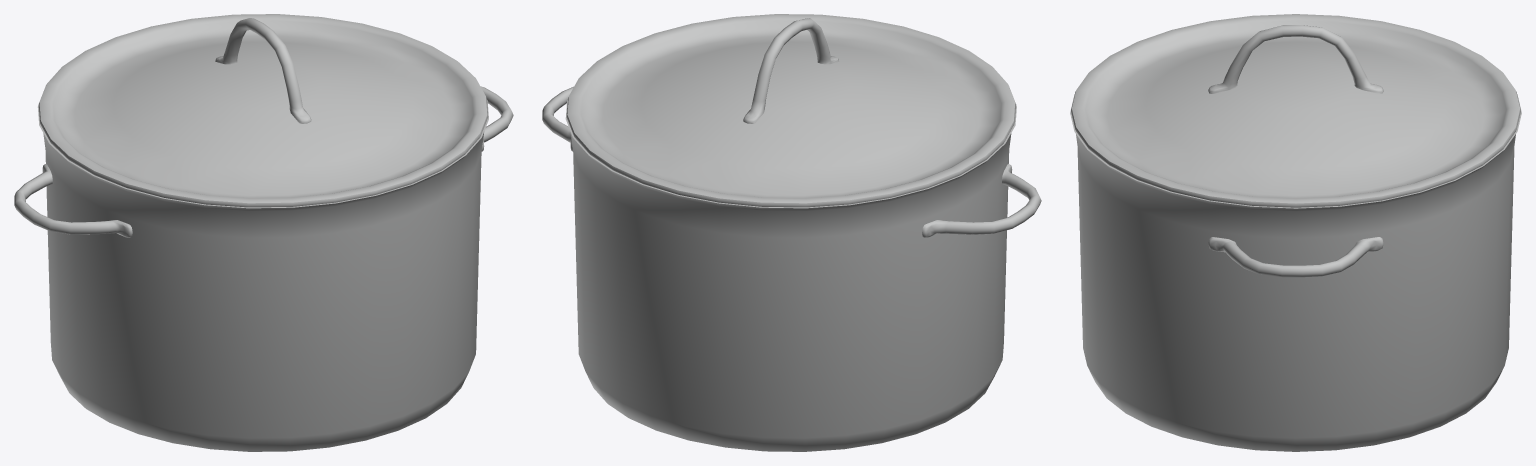
The model's file is Prop_Kitchen_Pan_x1.fbx.
The picture shows the model from 3 angles, left to right: view 1: azimuth 30°, elevation 25°; view 2: azimuth 150°, elevation 25°; view 3: azimuth 270°, elevation 25°; orthographic projection.
Parts seen in each view (by area): view 1: Prop_Kitchen_Pan_x1; view 2: Prop_Kitchen_Pan_x1; view 3: Prop_Kitchen_Pan_x1.
Part boxes in pixels (x1,y1,x2,y2): Prop_Kitchen_Pan_x1: (14, 14, 513, 451); Prop_Kitchen_Pan_x1: (542, 14, 1041, 451); Prop_Kitchen_Pan_x1: (1070, 14, 1521, 451).
Bounding box in the file's own units: 22.08 × 15.5 × 18.19.
